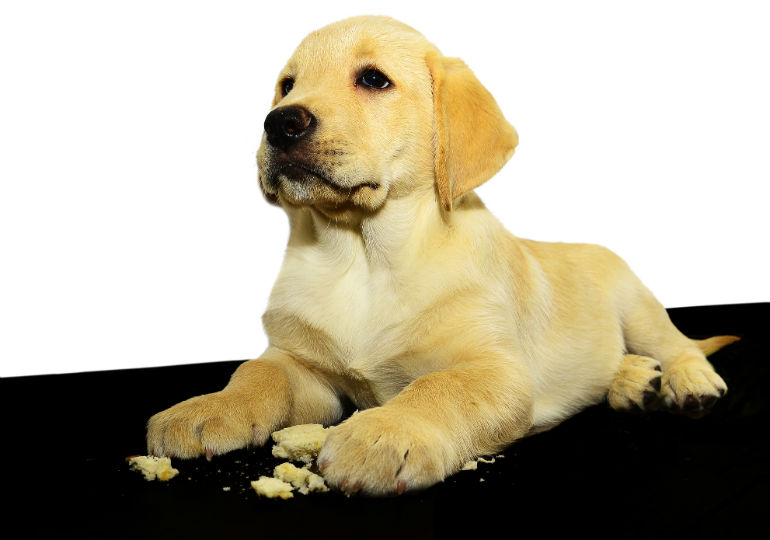dog: (243, 1, 570, 242)
